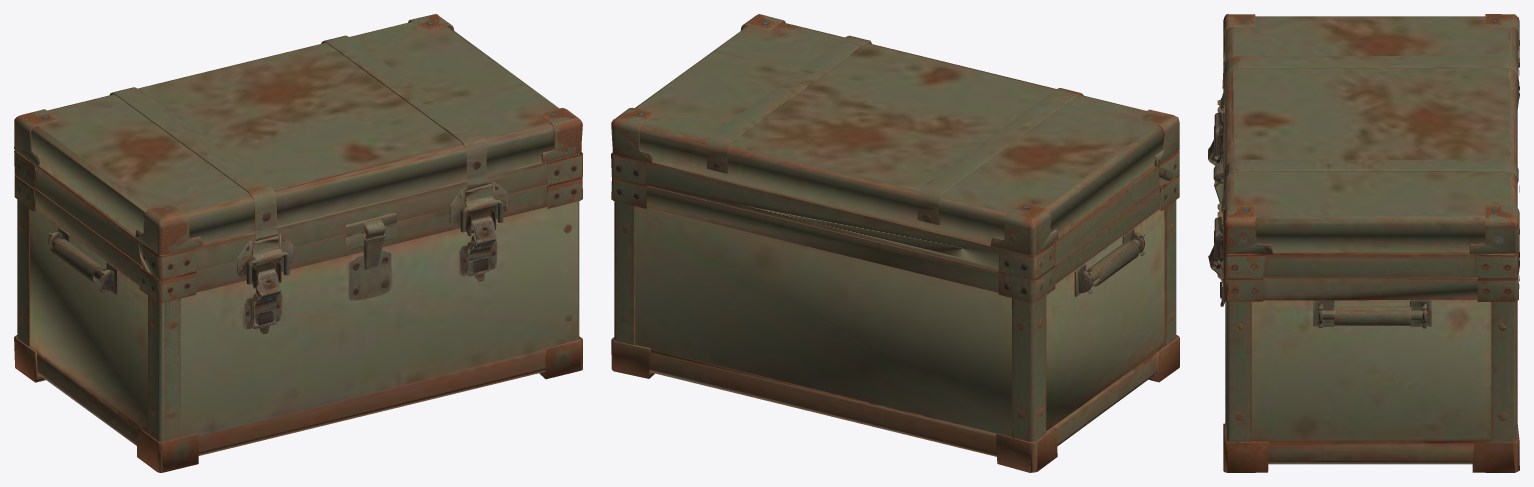
Rendered from player-train-lockbox.glb.
3 views of the same model, side by side, from view 1: azimuth 30°, elevation 25°; view 2: azimuth 150°, elevation 25°; view 3: azimuth 270°, elevation 25° (orthographic).
Visible parts, largest first — view 1: lockbox-lid, lockbox-body; view 2: lockbox-lid, lockbox-body; view 3: lockbox-lid, lockbox-body.
Boxes of the visible parts, x1,y1,x2,y2 form: lockbox-lid: [14, 14, 582, 302]; lockbox-body: [14, 199, 582, 472]; lockbox-lid: [611, 14, 1179, 302]; lockbox-body: [611, 200, 1179, 472]; lockbox-lid: [1213, 14, 1519, 301]; lockbox-body: [1208, 134, 1519, 472].
Size of the model in its own units: 1.03 by 0.5555 by 0.6138.
Materials: 1 (1 with a texture image).
